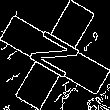N_SE: (23, 25, 87, 85)
